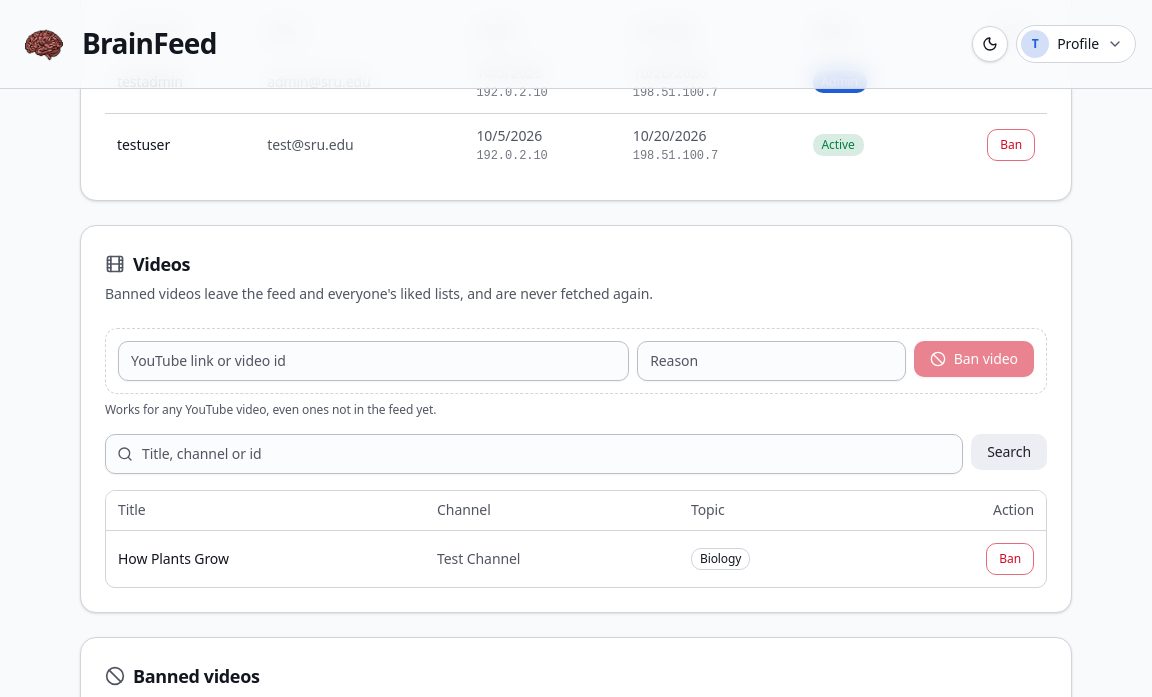
AdminPage › doesn't send a link that isn't a YouTube video
This screenshot has width=1152, height=697.
(page scrolled)
Expected: the text "testuser" is shown, [105,113,255,176]
In the field labelled "YouTube link or video id": (374, 360) [118,340,629,380], type "https://evil.example/x"
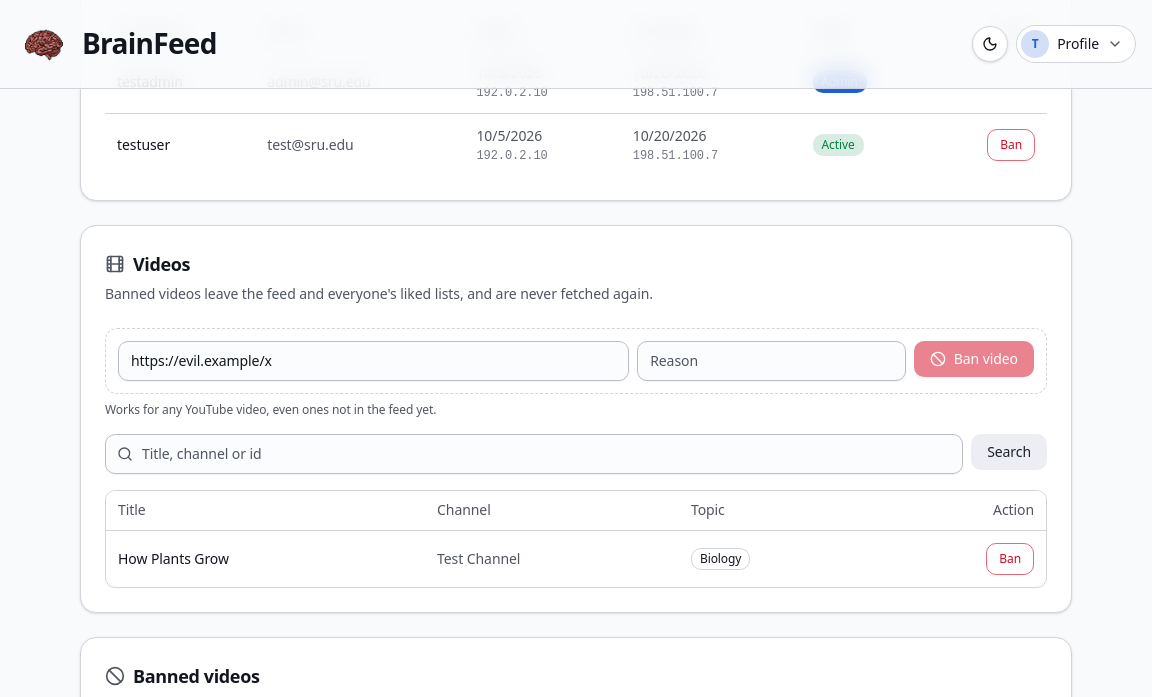
In the field named "Reason for banning this link": (772, 360) [637,340,906,380], type "x"
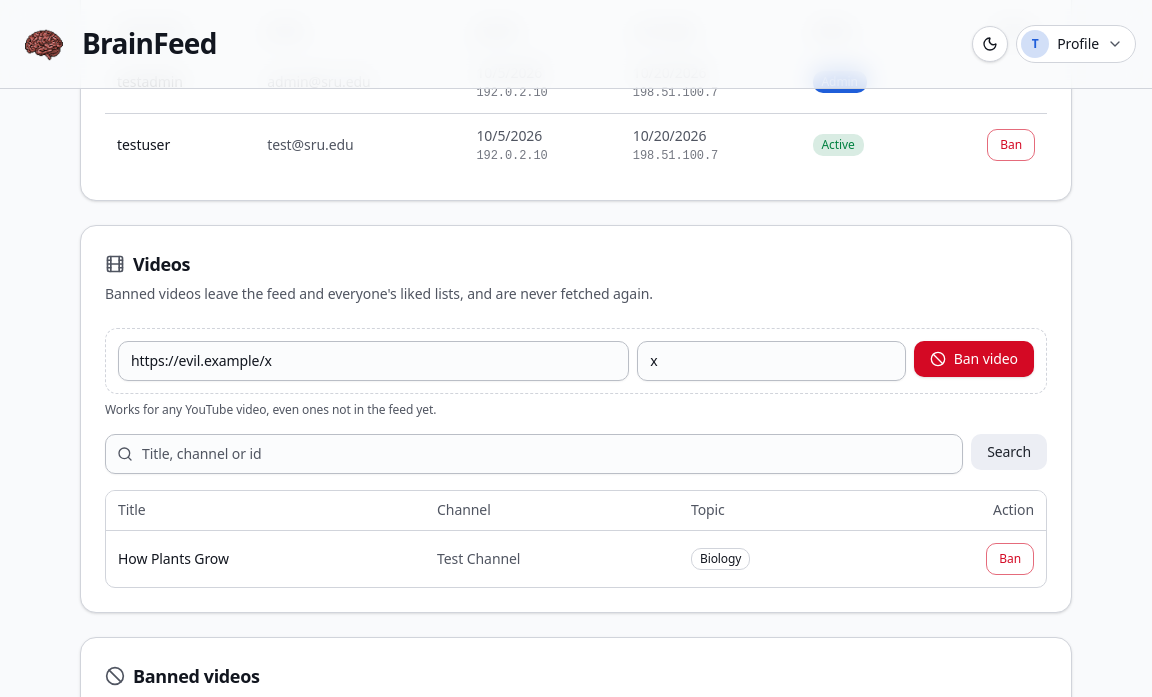
Click the button "Ban video": (974, 358) [914,340,1034,376]
(page scrolled)
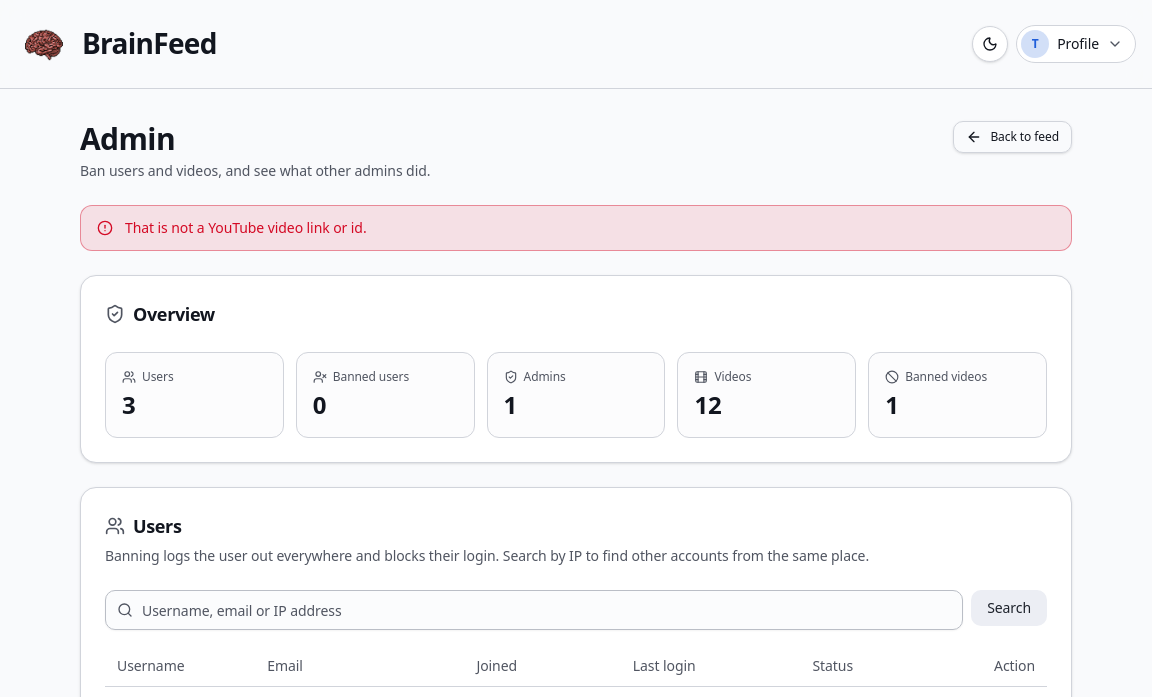
Result: the message reads "That is not a YouTube video link or id." at [125,218,367,237]
